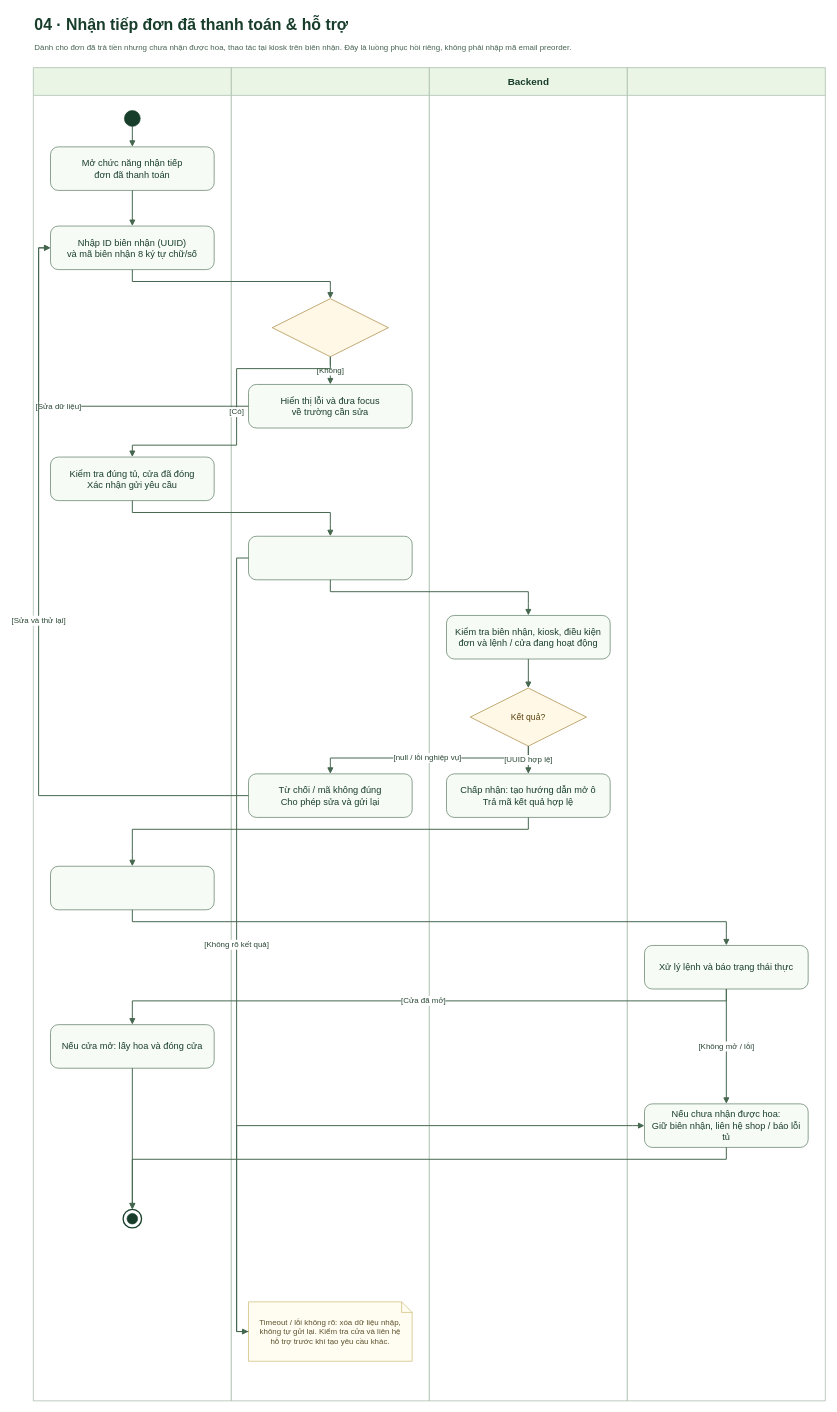
The diagram is 837 pixels wide and 1412 high, and some of its shapes have lost their labels. Each missing label, with the box of its shape:
Giao diện kiosk: (231, 67, 429, 1401)
Gửi yêu cầu nhận tiếp Không yêu cầu đăng nhập thành viên: (248, 536, 412, 580)
Khách hàng: (33, 67, 231, 1401)
Quan sát ô tủ Lệnh được nhận chưa có nghĩa cửa mở: (50, 866, 214, 910)
Thiết bị / hỗ trợ: (627, 67, 825, 1401)
Định dạng hợp lệ?: (272, 298, 388, 357)
